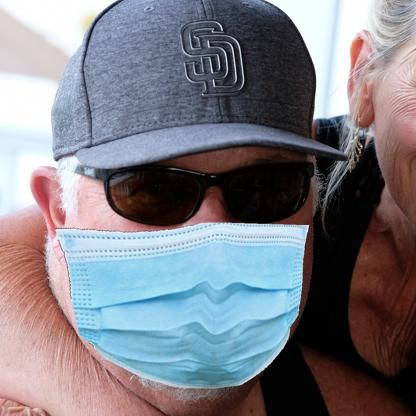mask: (54, 219, 308, 391)
